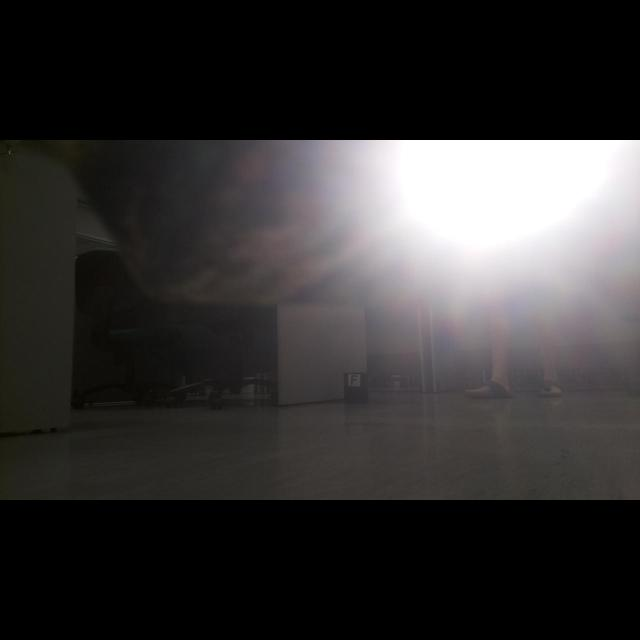F: (351, 375, 358, 385)
